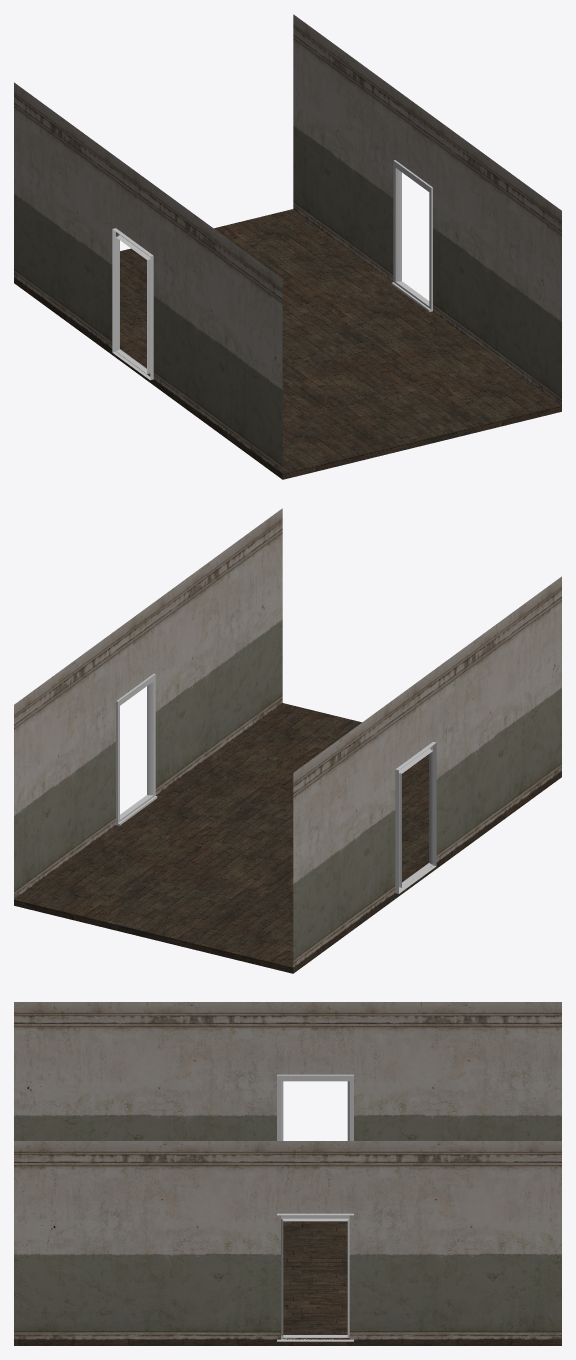
Rendered from hallway_finished_10m_doors_2.fbx.
3 views of the same model, one above another, from view 1: azimuth 30°, elevation 25°; view 2: azimuth 150°, elevation 25°; view 3: azimuth 270°, elevation 25° (orthographic).
Visible parts, largest first — view 1: hallway_finished_10m_doors_2; view 2: hallway_finished_10m_doors_2; view 3: hallway_finished_10m_doors_2.
Boxes of the visible parts, x1,y1,x2,y2 form: hallway_finished_10m_doors_2: (14,14,561,479); hallway_finished_10m_doors_2: (14,508,561,973); hallway_finished_10m_doors_2: (14,1002,561,1345).
Bounding box in the file's own units: 616 × 412 × 1000.
